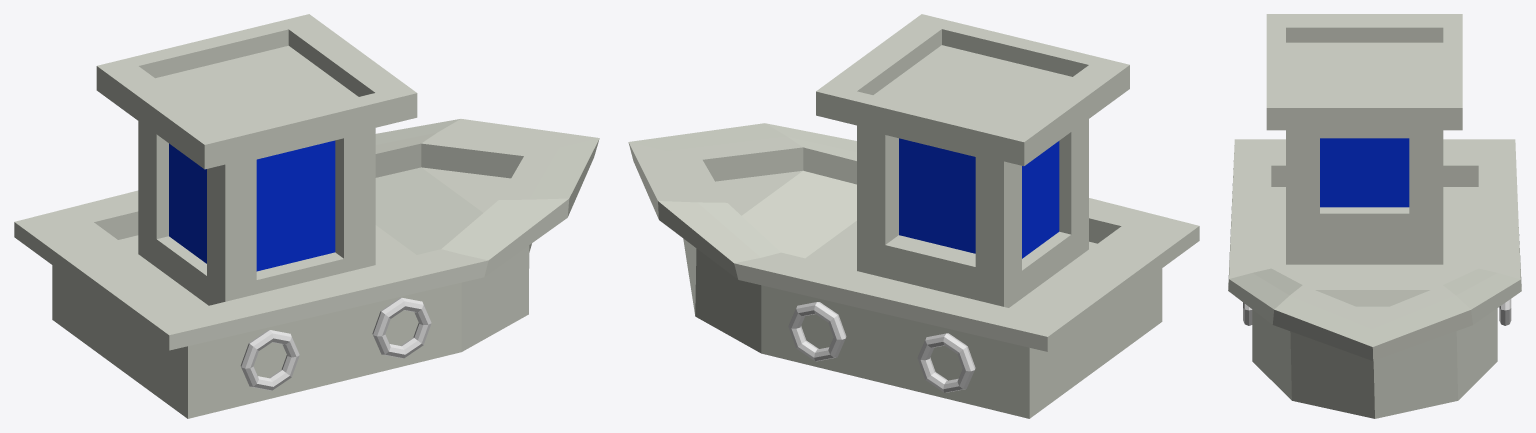
File: ship.glb
3 renders of one model, left to right at view 1: azimuth 30°, elevation 25°; view 2: azimuth 150°, elevation 25°; view 3: azimuth 270°, elevation 25°, orthographic. The views are drawn at different scales.
Parts seen in each view (by area): view 1: Cube.002, Torus.002, Torus.003; view 2: Cube.002, Torus.001, Torus; view 3: Cube.002, Torus.
Part boxes in pixels (box(x1,y1,x2,y2)): Cube.002: box(14, 14, 599, 418); Torus.002: box(372, 297, 431, 358); Torus.003: box(240, 330, 299, 390); Cube.002: box(628, 14, 1199, 418); Torus.001: box(917, 333, 975, 392); Torus: box(788, 302, 846, 361); Cube.002: box(1228, 14, 1521, 418); Torus: box(1499, 299, 1511, 325).
Size of the model in its own units: 6.74 by 3.33 by 3.74.
